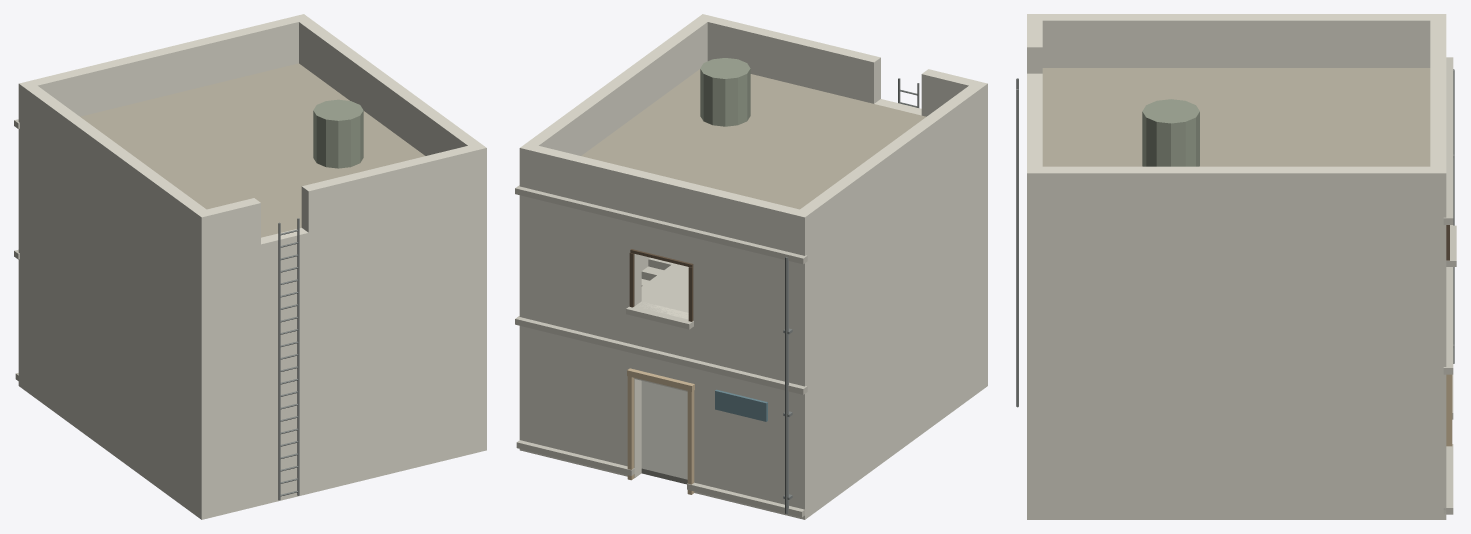
Rendered from res_house_2f_b.glb.
The picture shows the model from 3 angles, left to right: view 1: azimuth 30°, elevation 25°; view 2: azimuth 150°, elevation 25°; view 3: azimuth 270°, elevation 25°; orthographic projection. The views are drawn at different scales.
Parts seen in each view (by area): view 1: LOD0; view 2: LOD0; view 3: LOD0.
Boxes of the visible parts, x1=… form: LOD0: x1=14, y1=14, x2=486, y2=519; LOD0: x1=515, y1=14, x2=987, y2=519; LOD0: x1=1016, y1=14, x2=1456, y2=519.
Size of the model in its own units: 7.28 by 7.6 by 8.4.
